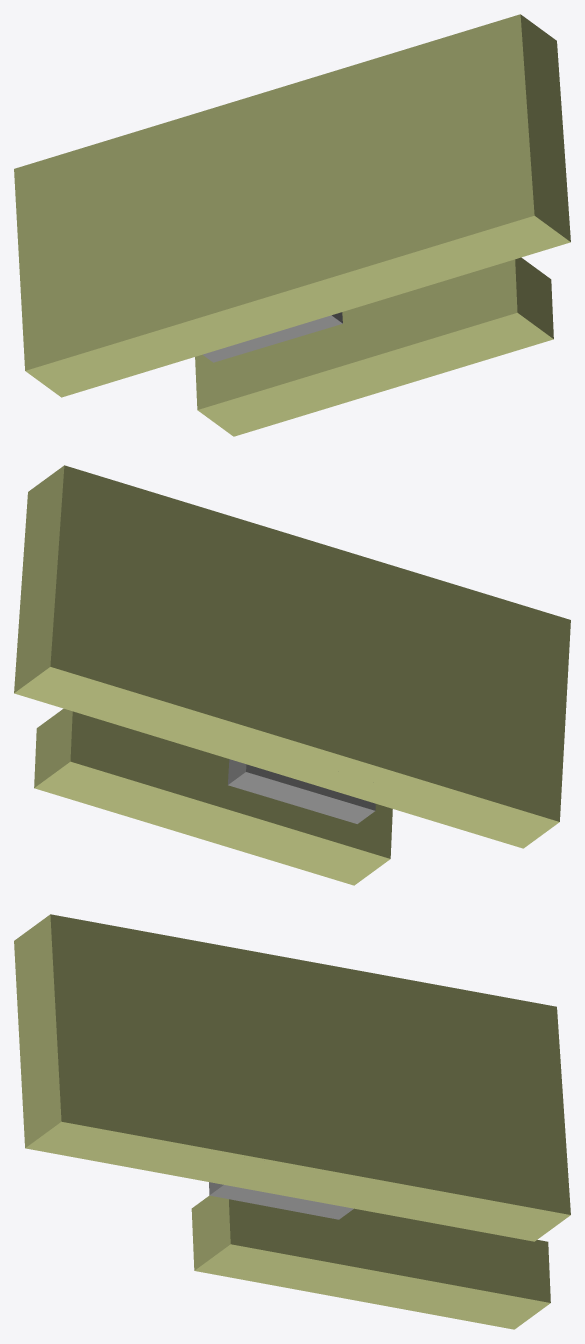
The picture shows the model from 3 angles, top to bottom: view 1: azimuth 30°, elevation 25°; view 2: azimuth 150°, elevation 25°; view 3: azimuth 330°, elevation 25°; orthographic projection.
Visible parts, largest first — view 1: 0_1_2_0_3_1_0_1; view 2: 0_1_2_0_3_1_0_1; view 3: 0_1_2_0_3_1_0_1.
Part boxes in pixels (box(x1,y1,x2,y2)): 0_1_2_0_3_1_0_1: box(14, 14, 570, 436); 0_1_2_0_3_1_0_1: box(14, 465, 570, 885); 0_1_2_0_3_1_0_1: box(14, 914, 570, 1329).
Size of the model in its own units: 49.53 by 28.7 by 6.25.
